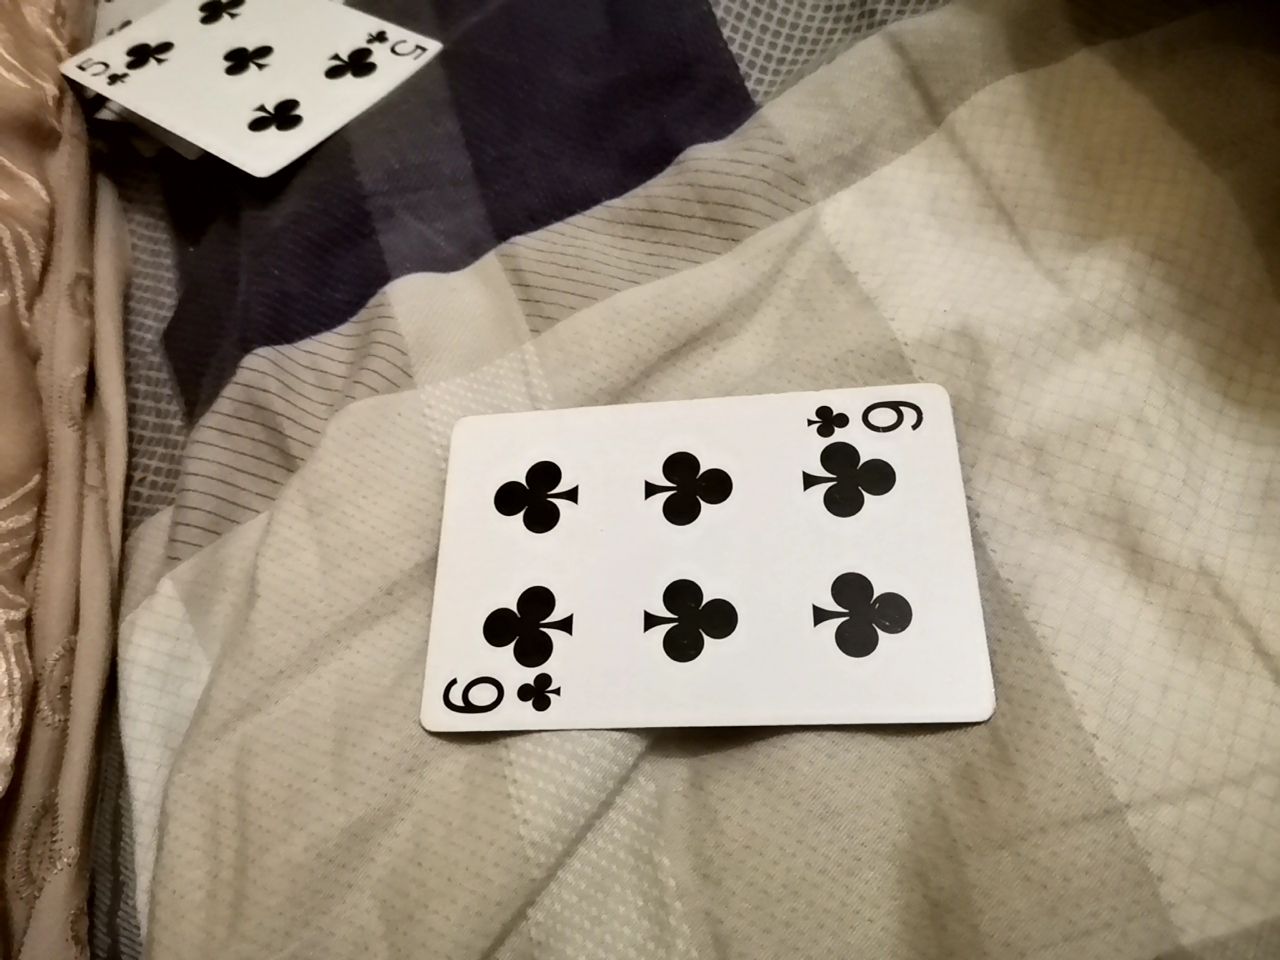mh 6: (402, 366, 1001, 720)
